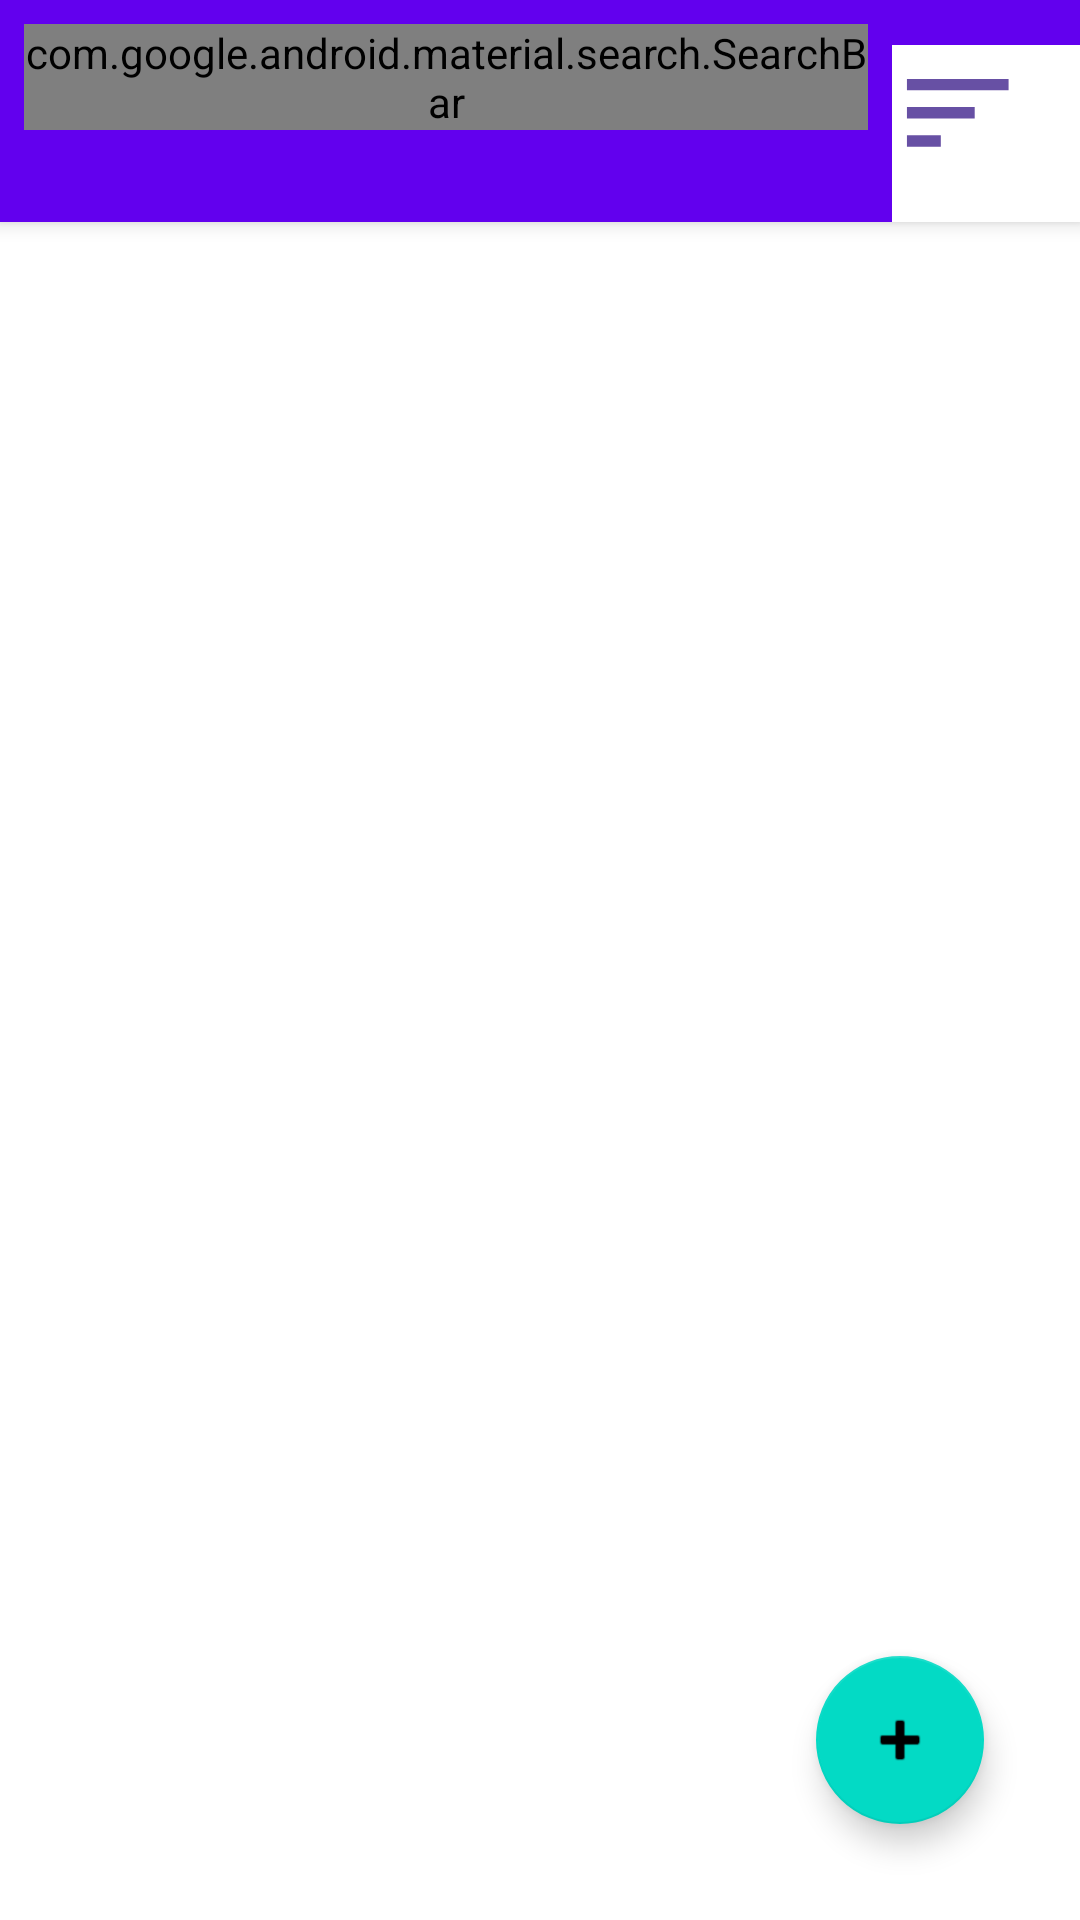

Locate icon controls on the screen. Image size 1080×1920, boxes as (x1, y1, x2, y2).
New Note: (816, 1656, 984, 1824)
sort: (892, 45, 1080, 222)
